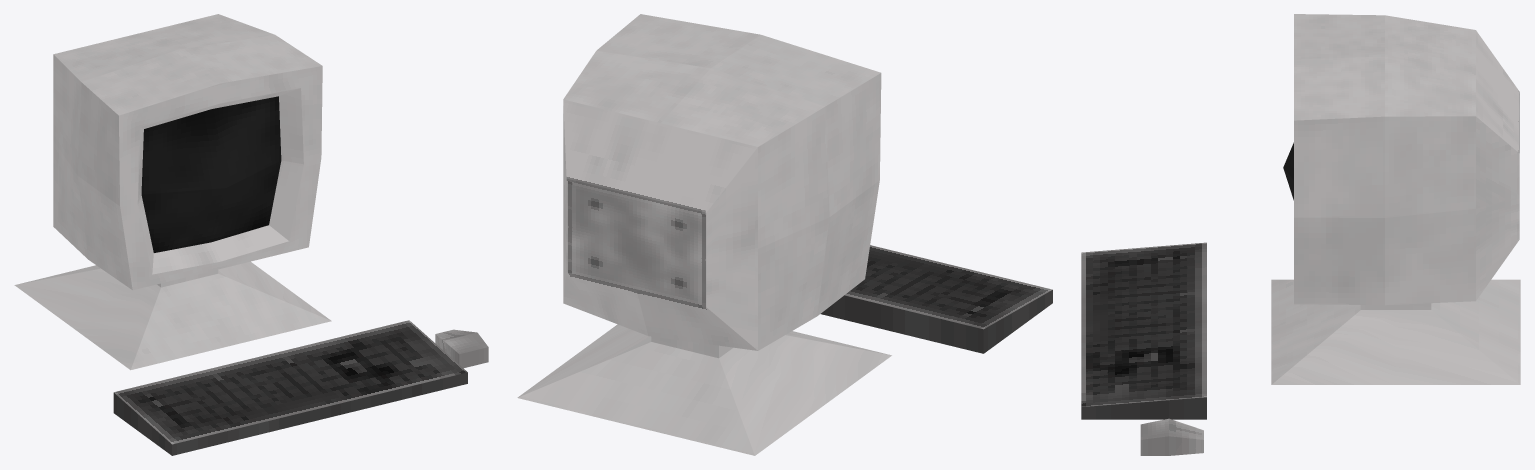
The picture shows the model from 3 angles, left to right: view 1: azimuth 30°, elevation 25°; view 2: azimuth 150°, elevation 25°; view 3: azimuth 270°, elevation 25°; orthographic projection. The views are drawn at different scales.
Visible parts, largest first — view 1: Pc, Teclado, Raton; view 2: Pc, Teclado; view 3: Pc, Teclado, Raton.
Boxes of the visible parts, x1,y1,x2,y2 form: Pc: [14, 14, 331, 370]; Teclado: [113, 320, 467, 455]; Raton: [435, 329, 488, 368]; Pc: [517, 14, 891, 455]; Teclado: [821, 245, 1052, 353]; Pc: [1271, 14, 1520, 384]; Teclado: [1081, 242, 1206, 419]; Raton: [1140, 418, 1203, 455].
Size of the model in its own units: 4.2 by 3.21 by 4.3.
Materials: 3 (3 with a texture image).
